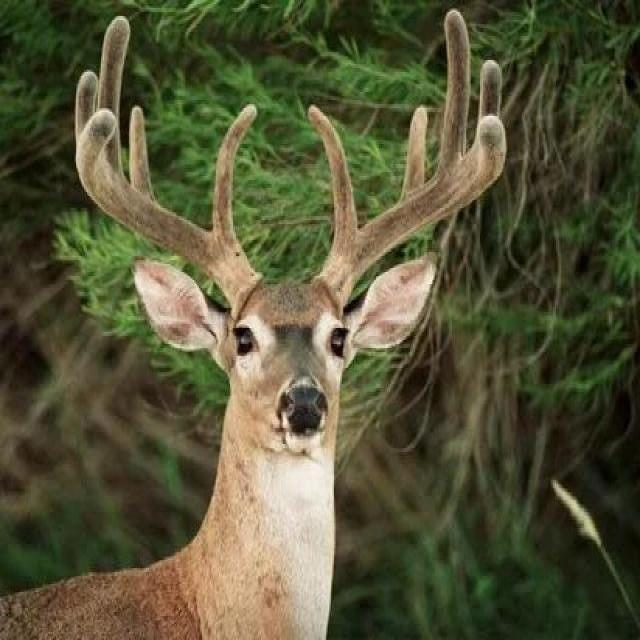deer: (64, 25, 457, 600)
